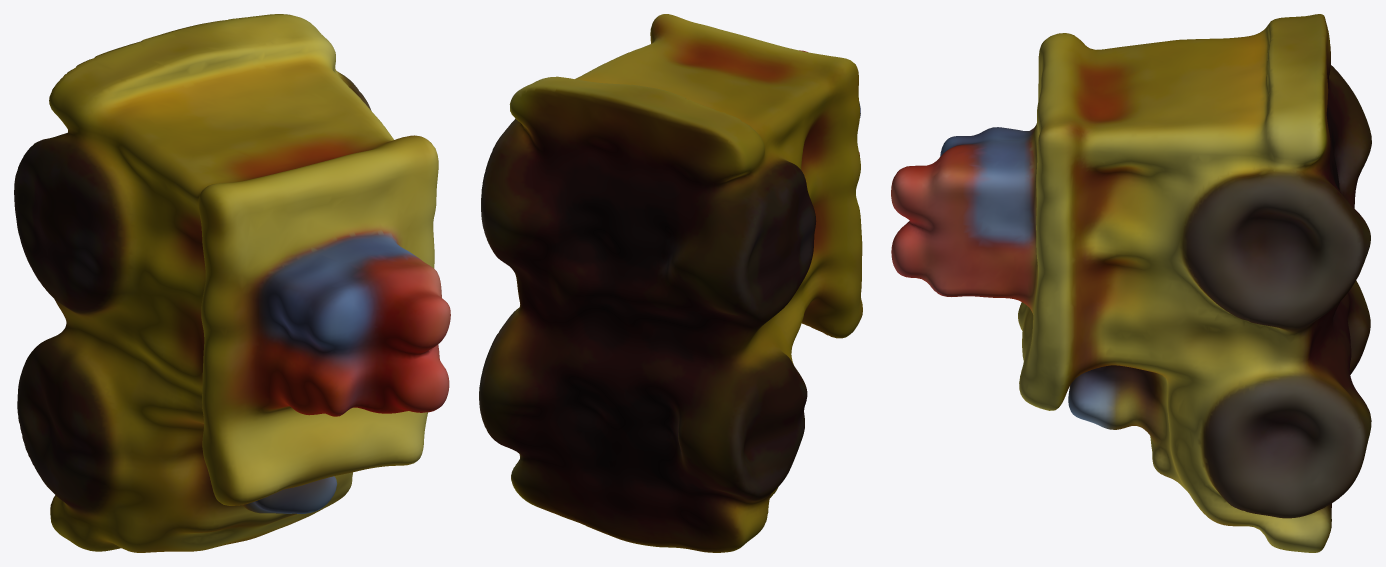
Rendered from school_bus2.glb.
3 views of the same model, side by side, from view 1: azimuth 30°, elevation 25°; view 2: azimuth 150°, elevation 25°; view 3: azimuth 270°, elevation 25° (orthographic). The views are drawn at different scales.
Size of the model in its own units: 0.65 by 0.9996 by 0.9394.
